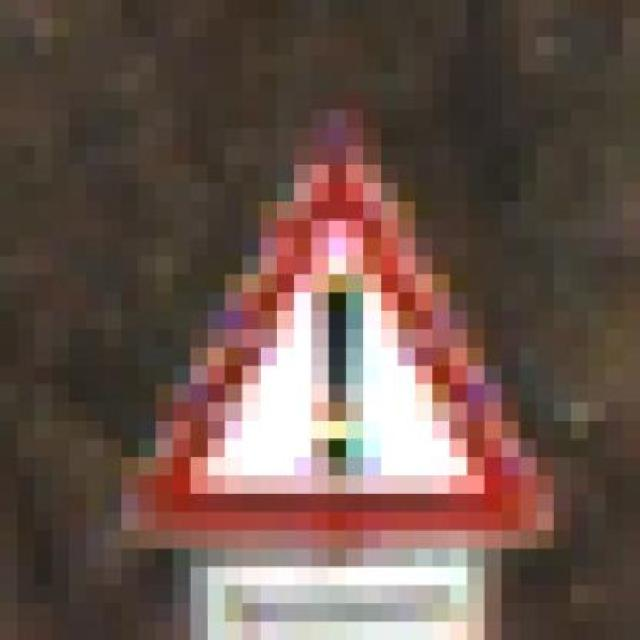Attention Please-: (103, 73, 571, 530)
